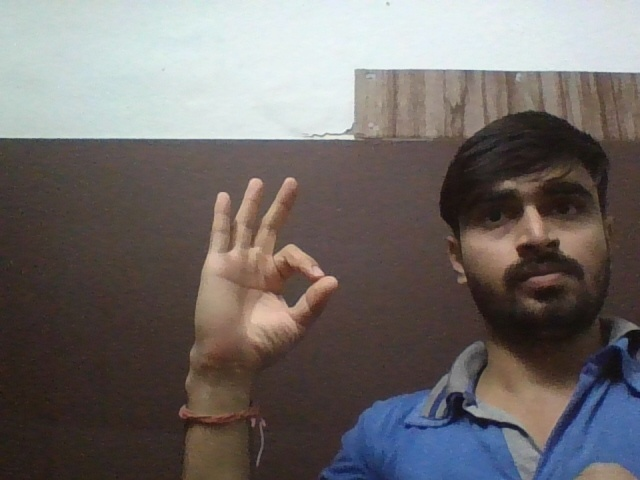F: (194, 173, 339, 366)
